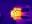Hotspot: (11, 8, 25, 20)
